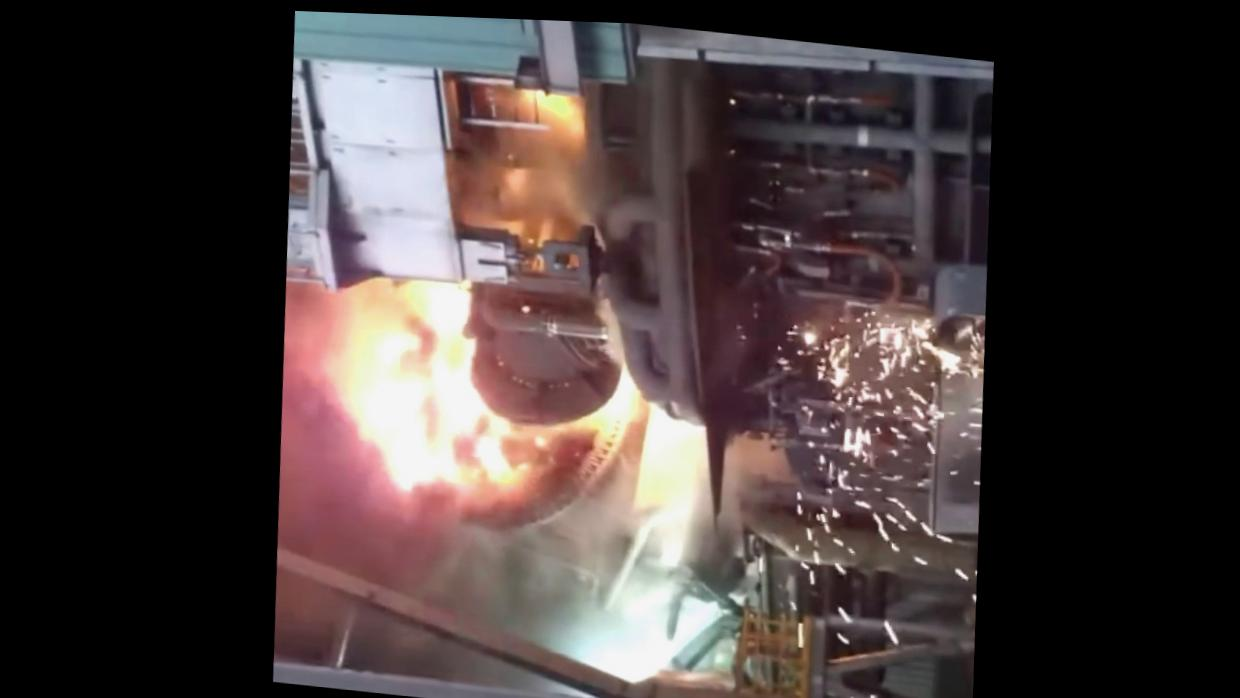fire: (289, 74, 977, 637)
